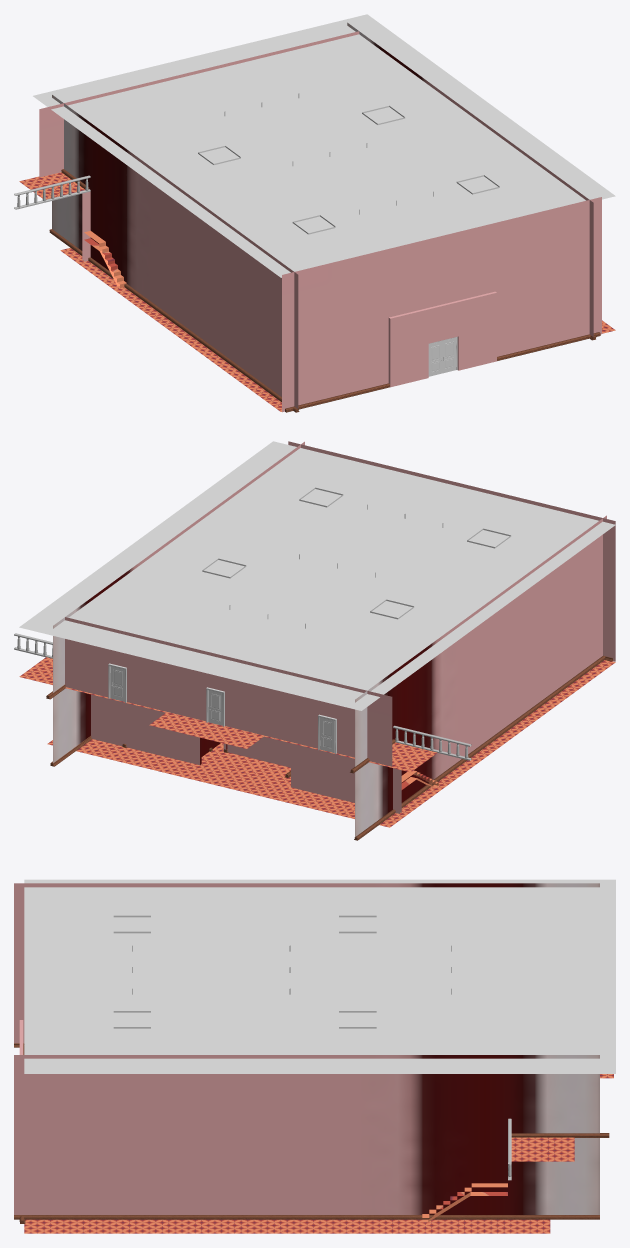
The model's file is Concept_Lobby_3Test3.fbx.
3 renders of one model, top to bottom at view 1: azimuth 30°, elevation 25°; view 2: azimuth 150°, elevation 25°; view 3: azimuth 270°, elevation 25°, orthographic. The views are drawn at different scales.
Parts seen in each view (by area): view 1: Roof.005, Wall_Basic.087, Wall_Basic.088, Floor.006, railing.008, Stairs; view 2: Roof.005, Wall_Basic.087, Floor.006, railing.008, Door, Door.002, Door.001; view 3: Roof.005, Wall_Basic.087, Floor.006, Stairs.
Part boxes in pixels (x1,y1,x2,y2): Roof.005: (33,14,615,277); Wall_Basic.087: (39,22,601,412); Wall_Basic.088: (388,291,496,387); Floor.006: (19,172,615,411); railing.008: (14,175,90,209); Stairs: (84,231,126,287); Roof.005: (19,441,615,710); Wall_Basic.087: (53,441,615,836); Floor.006: (19,657,615,827); railing.008: (393,725,471,760); Door: (206,687,224,726); Door.002: (318,714,336,754); Door.001: (108,663,126,702); Roof.005: (24,879,615,1073); Wall_Basic.087: (14,883,599,1214); Floor.006: (24,1074,613,1233); Stairs: (422,1183,507,1222).
Bounding box in the file's own units: 3260 × 972 × 3205.
